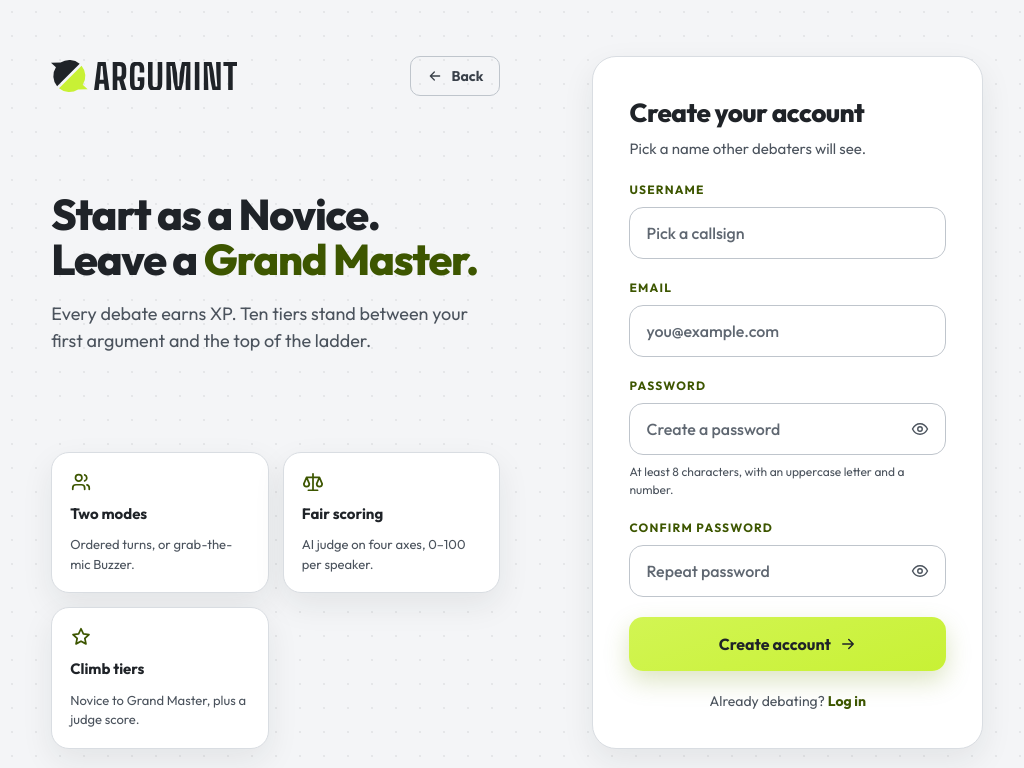
Test: Register › form validation › shows 'Username is required' when username is blank
Type "alice@example.com" into the field with placeholder "you@example.com" at {"x": 788, "y": 330}, box [630,304,946,356]
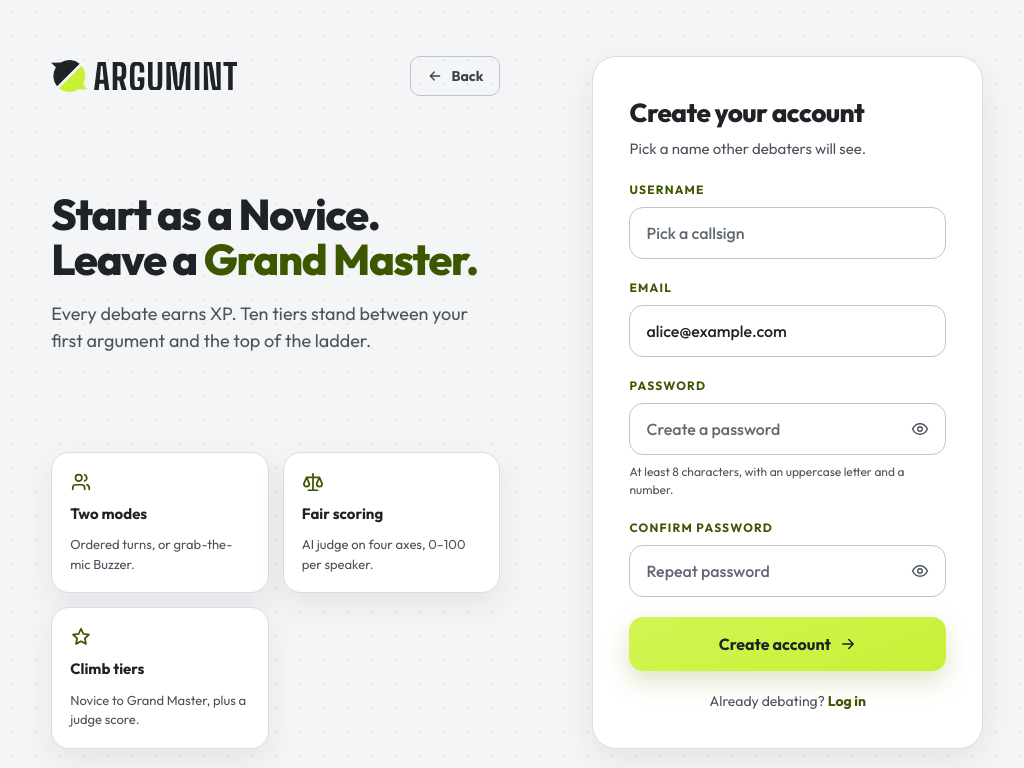
Type "Password1" into the password field with placeholder "Create a password" at {"x": 788, "y": 428}, box [630,402,946,454]
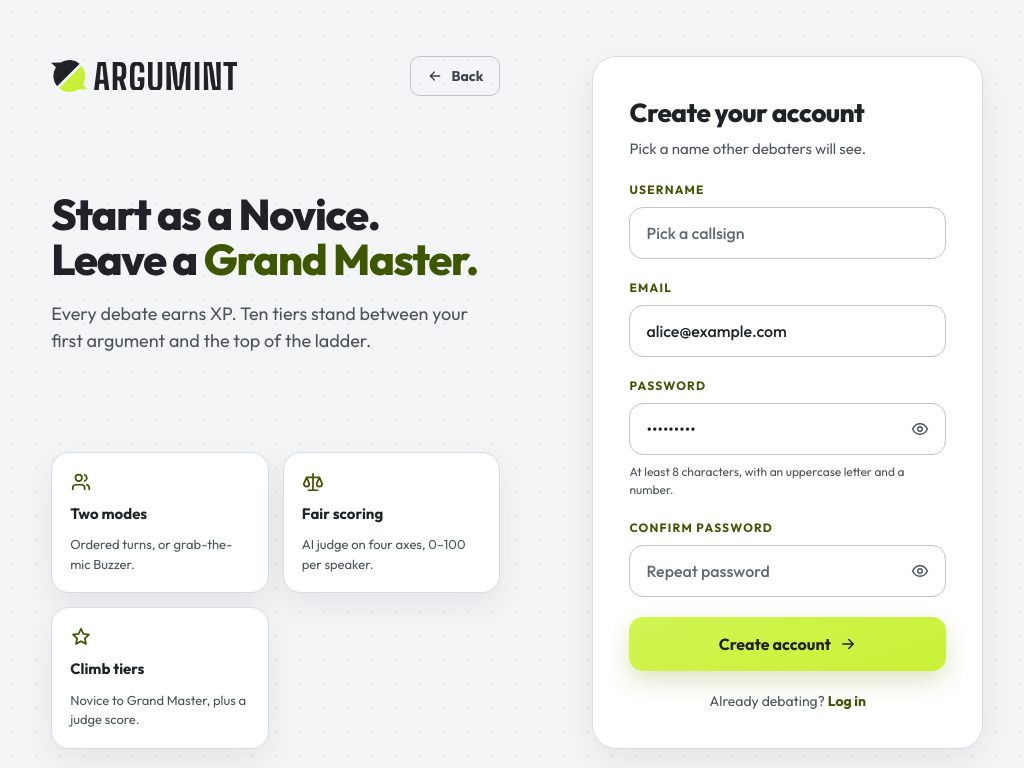
Type "Password1" into the password field with placeholder "Repeat password" at {"x": 788, "y": 570}, box [630,544,946,596]
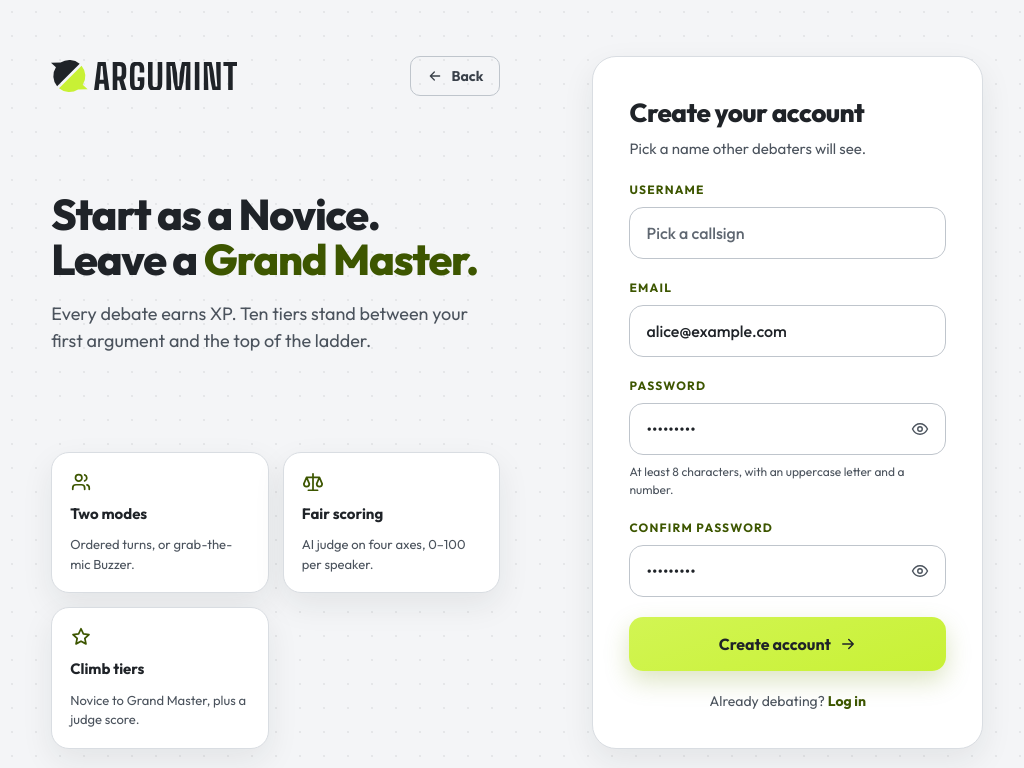
Click the button "Create account" at {"x": 788, "y": 644}, box [630,616,946,670]
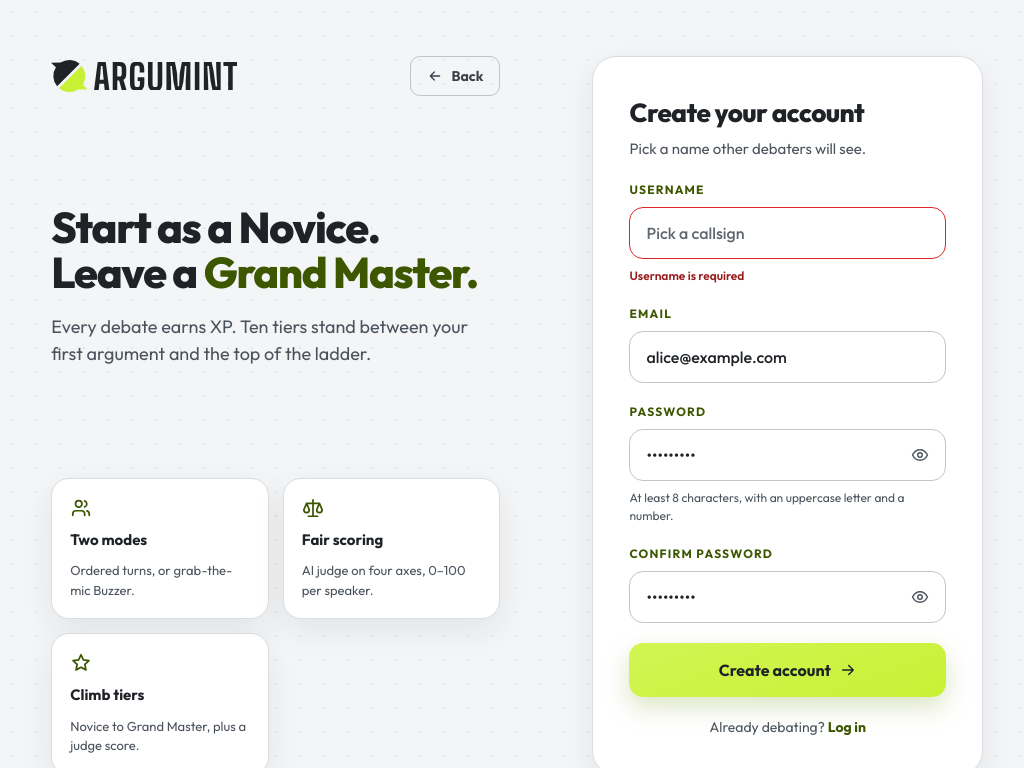
Expected: the text "Username is required" is shown, [630,268,744,282]
